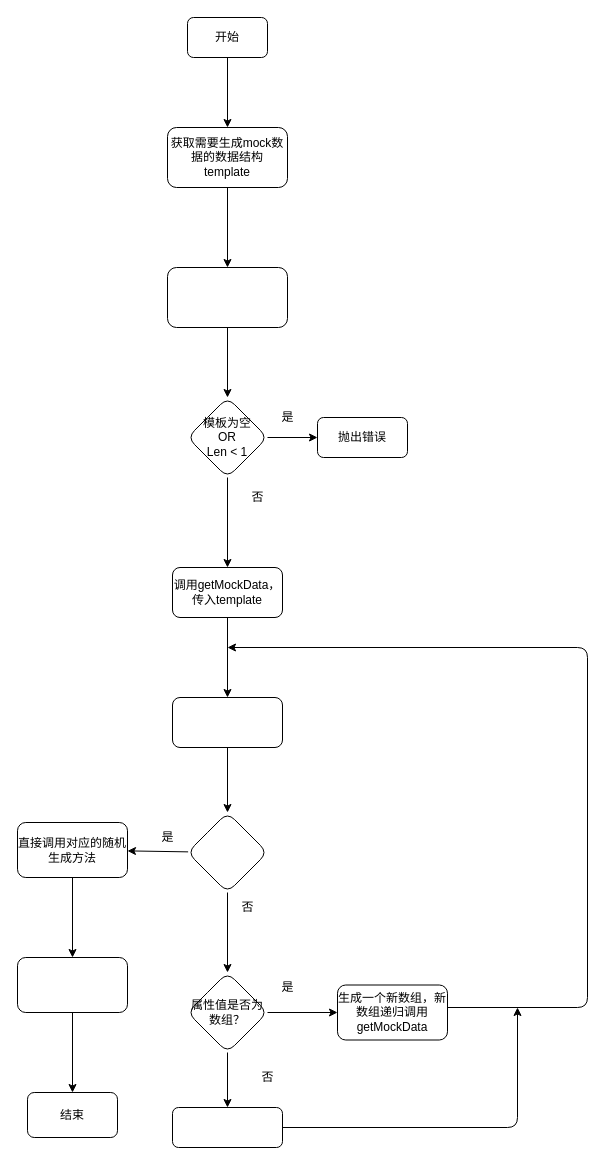
Image size: 613x1165. Some labels were removed from this diagram. The centre of each missing label's shape, as x and y in pixels:
属性值是否为普通类型？: point (227, 852)
生成随机属性值，返回最后结果: point (72, 984)
调用getMultiMockData方法，传入template和生成条数Len: point (227, 297)
递归调用getMOckData: point (227, 1127)
遍历模板的每个属性: point (227, 722)
